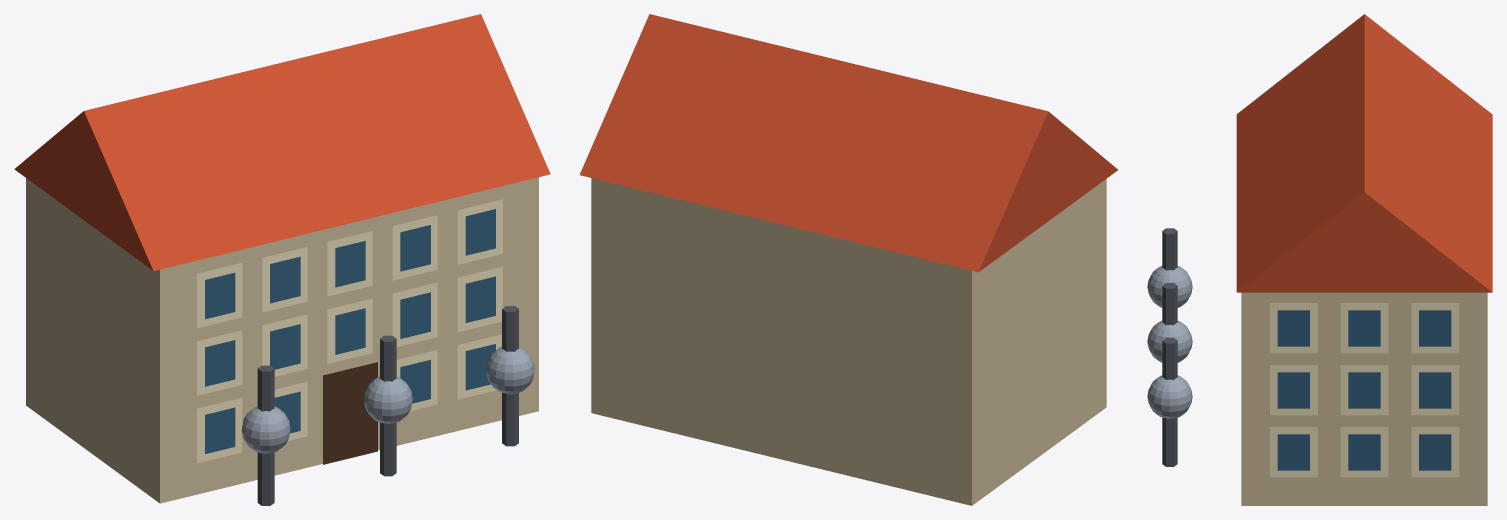
File: building_armory.fbx
3 renders of one model, left to right at view 1: azimuth 30°, elevation 25°; view 2: azimuth 150°, elevation 25°; view 3: azimuth 270°, elevation 25°, orthographic. The views are drawn at different scales.
Visible parts, largest first — view 1: building_armory; view 2: building_armory; view 3: building_armory.
Part boxes in pixels (x1,y1,x2,y2): building_armory: (14, 14, 550, 505); building_armory: (579, 14, 1117, 505); building_armory: (1147, 14, 1492, 505).
Size of the model in its own units: 65 by 54.1 by 53.25.
